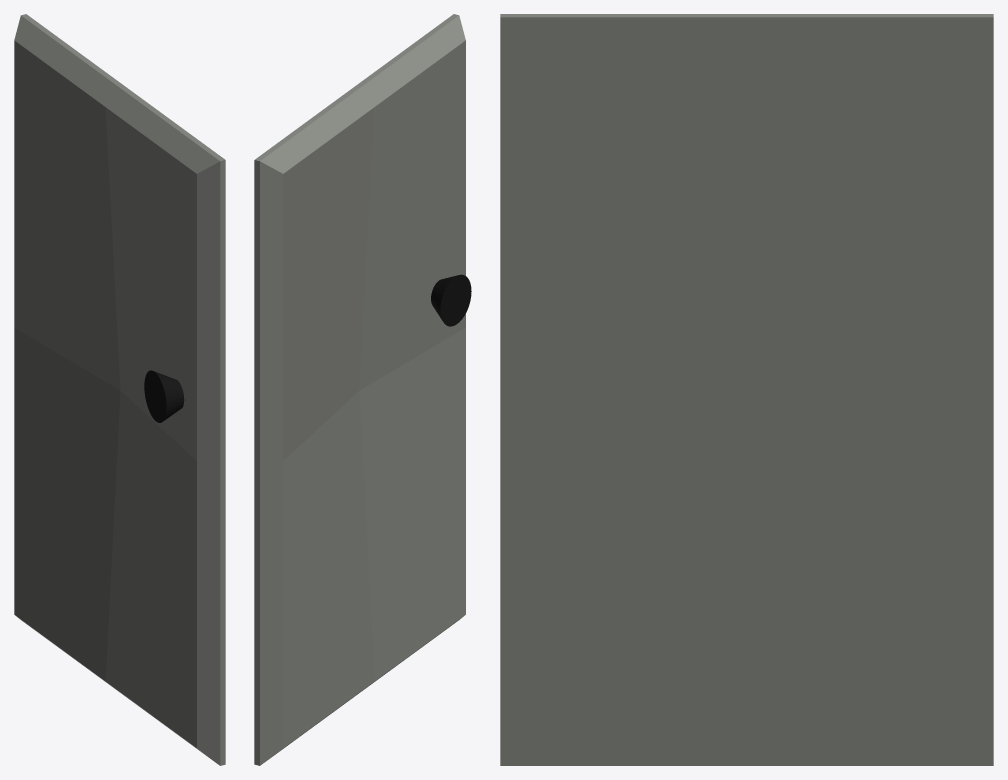
Rendered from mesa_centro_puerta1.obj.
The picture shows the model from 3 angles, left to right: view 1: azimuth 30°, elevation 25°; view 2: azimuth 150°, elevation 25°; view 3: azimuth 270°, elevation 25°; orthographic projection. The views are drawn at different scales.
Parts seen in each view (by area): view 1: Cubo.025_Cubo.006; view 2: Cubo.025_Cubo.006; view 3: Cubo.025_Cubo.006.
Boxes of the visible parts, x1,y1,x2,y2 form: Cubo.025_Cubo.006: [14, 14, 225, 765]; Cubo.025_Cubo.006: [254, 14, 471, 765]; Cubo.025_Cubo.006: [500, 14, 993, 765].
Size of the model in its own units: 0.0699 by 1.05 by 0.6285.
